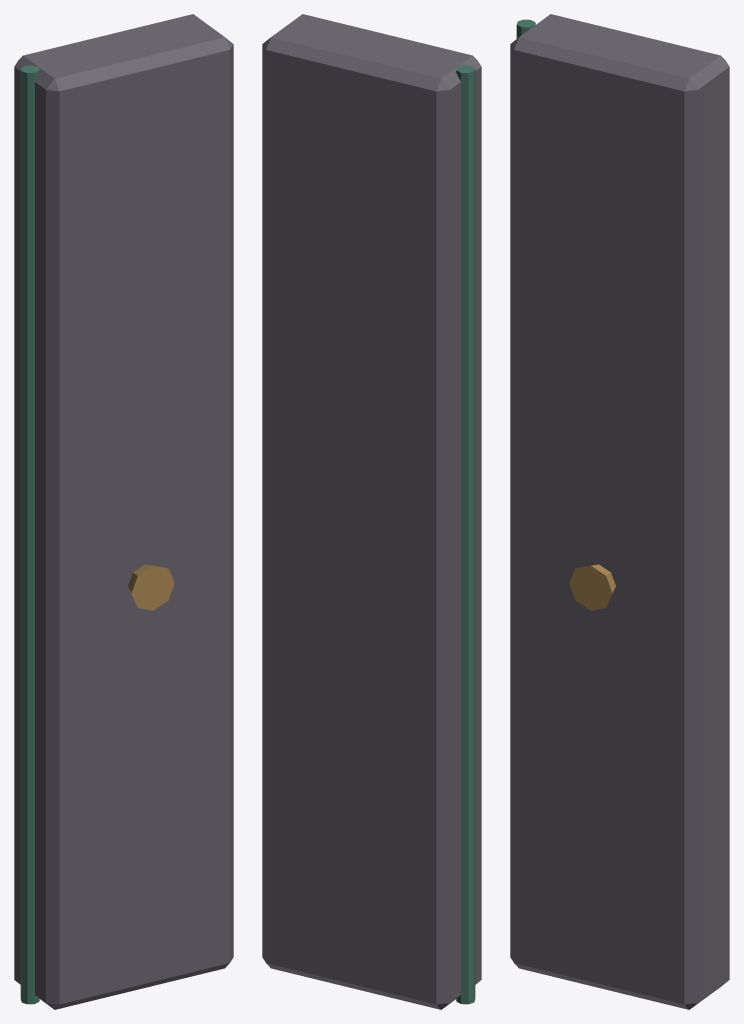
File: Bld_Lab_FoldWall_4m_Panel1.glb
The picture shows the model from 3 angles, left to right: view 1: azimuth 30°, elevation 25°; view 2: azimuth 150°, elevation 25°; view 3: azimuth 330°, elevation 25°; orthographic projection.
Parts seen in each view (by area): view 1: Bld_Lab_FoldWall_4m_Panel1; view 2: Bld_Lab_FoldWall_4m_Panel1; view 3: Bld_Lab_FoldWall_4m_Panel1.
Part boxes in pixels (x1,y1,x2,y2): Bld_Lab_FoldWall_4m_Panel1: (14,14,233,1009); Bld_Lab_FoldWall_4m_Panel1: (262,14,481,1009); Bld_Lab_FoldWall_4m_Panel1: (510,14,729,1009).
Size of what is drawn, in the model's own units: 0.815 by 3.7 by 0.36.
